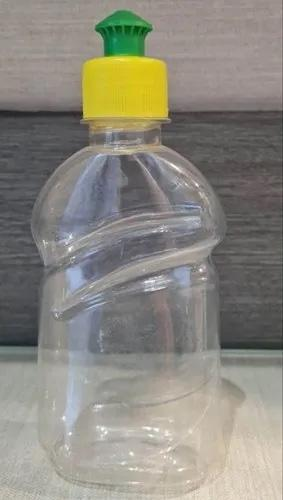plastic: (32, 11, 225, 497)
